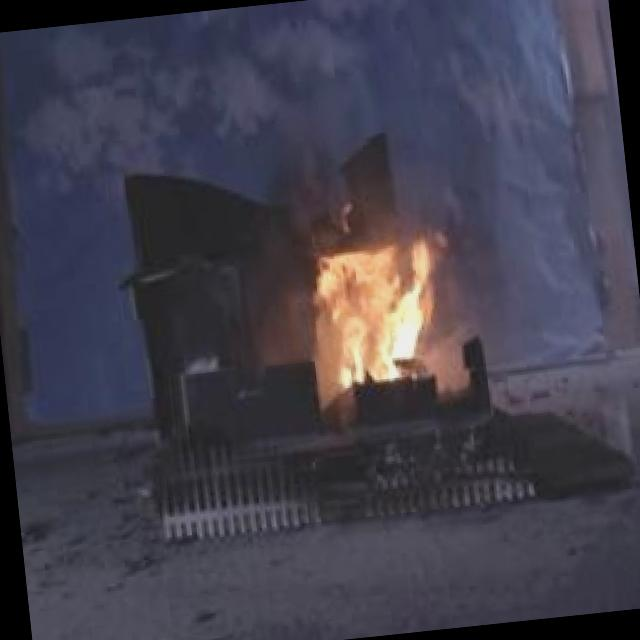fire: (292, 203, 470, 404)
